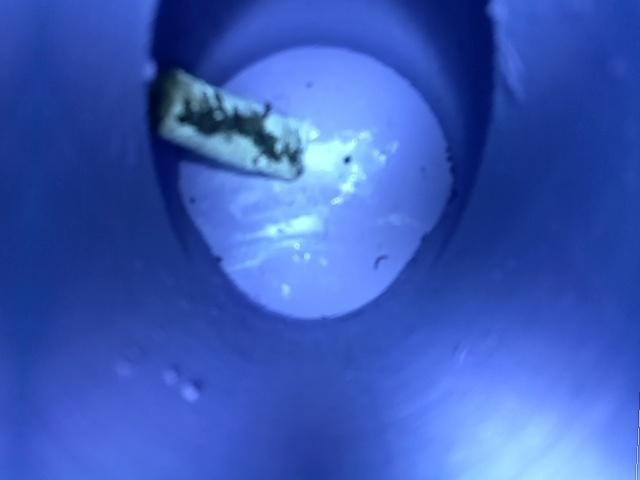megot: (134, 55, 330, 192)
